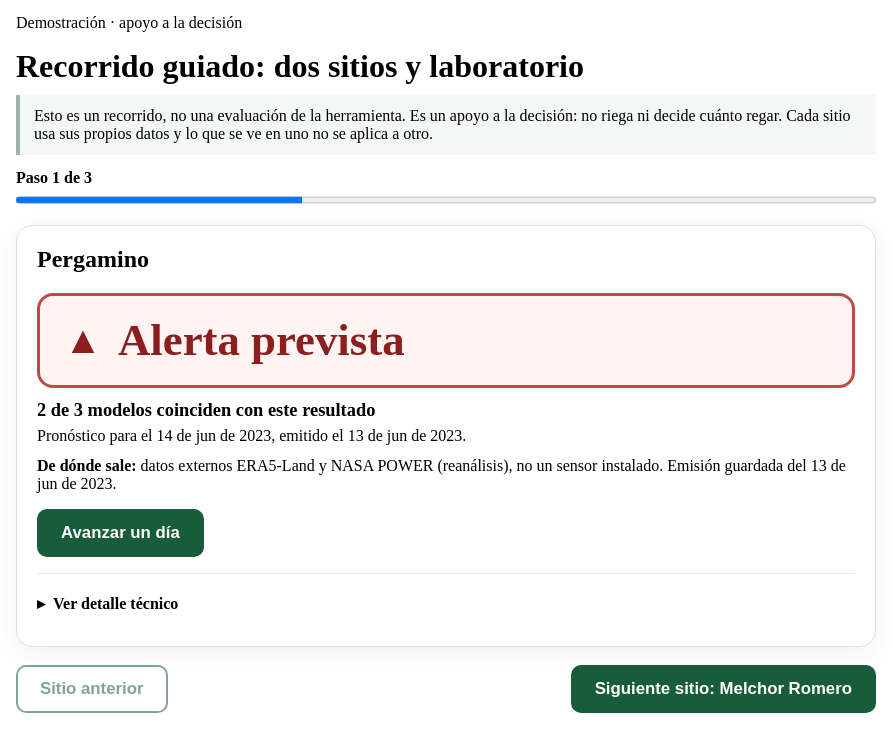
GuidedDemoPage · estructura del recorrido › restarts a step from its initial state when coming back to it (no stale reveal)
Expected: the text "Alerta prevista" is shown, [118, 316, 404, 365]
What coordinates should you click on to do the following:
click the button "Avanzar un día"
I would click on:
 (120, 533)
Its box is [37, 509, 204, 557].
(page scrolled)
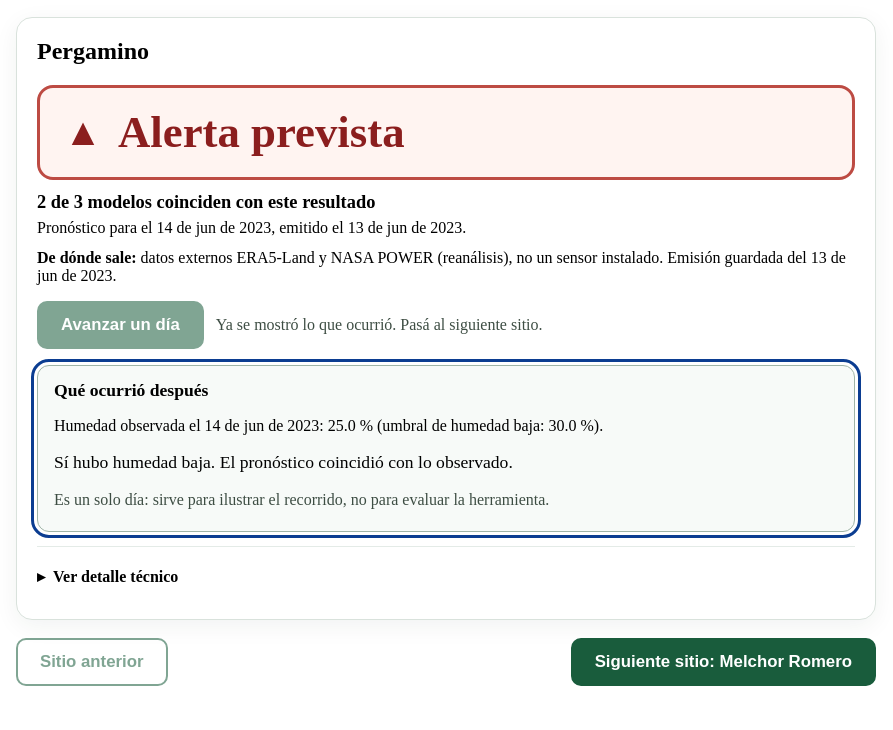
Now the element "Qué ocurrió después" is shown, box [37, 365, 855, 532]
What coordinates should you click on to do the following:
click the button "Siguiente sitio: Melchor Romero"
I would click on:
 (723, 662)
Its box is [571, 638, 876, 686].
(page scrolled)
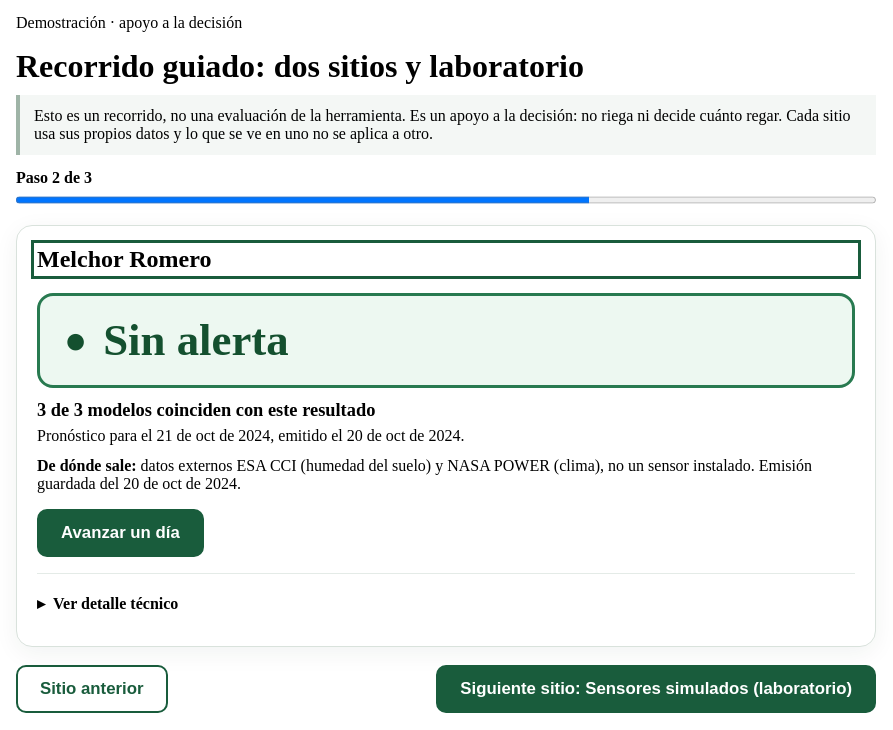
Now the text "Sin alerta" is shown, box [103, 316, 289, 365]
What coordinates should you click on to do the following:
click the button "Sitio anterior"
I would click on:
 (92, 689)
Its box is [16, 665, 168, 713].
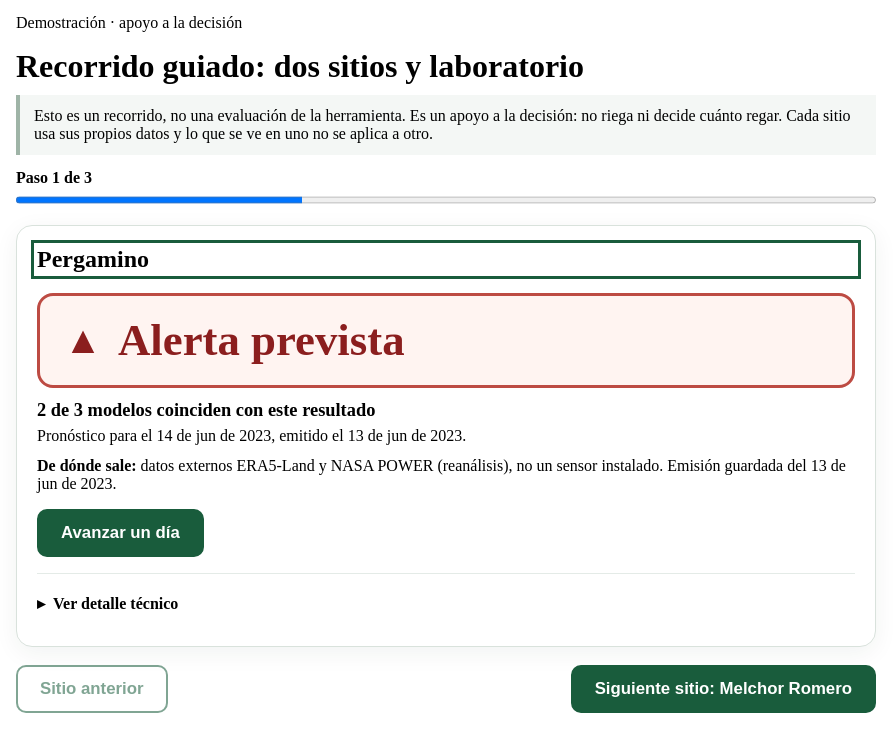
Expected: the heading "Qué ocurrió después" is not shown
Now the button "Avanzar un día" is enabled, box [37, 509, 204, 557]
Now the text "Alerta prevista" is shown, box [118, 316, 404, 365]
